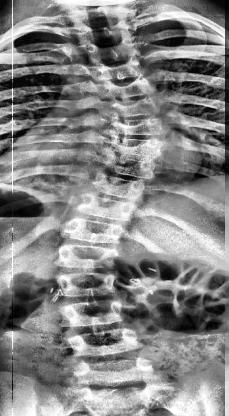Vertebrae: (67, 356, 156, 390), (67, 325, 145, 361), (56, 297, 124, 329), (63, 214, 124, 248), (72, 192, 134, 224), (100, 149, 158, 181), (54, 270, 118, 298), (92, 171, 146, 202), (54, 245, 119, 270), (106, 114, 167, 140), (76, 20, 132, 48), (86, 37, 138, 67), (102, 74, 156, 102), (104, 132, 162, 158), (102, 96, 162, 121), (95, 55, 147, 83)
